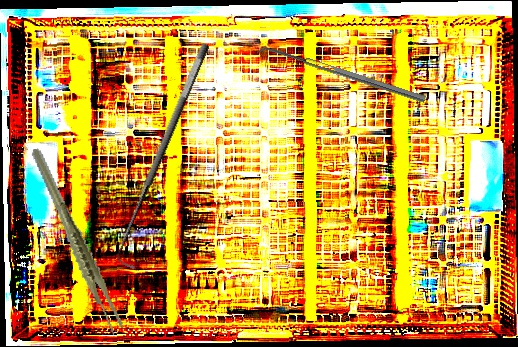Hook Surgical: (105, 41, 228, 272)
Spatula Surgical: (256, 42, 426, 110)
Tissue Forceps: (29, 138, 126, 344)
